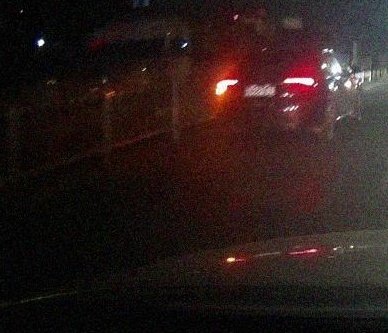L_light: (215, 79, 238, 95)
R_light: (283, 78, 314, 85)
T_light: (265, 57, 283, 60)
night-left: (215, 50, 320, 150)
